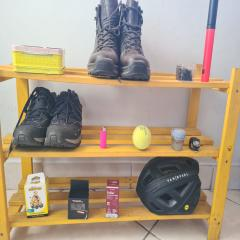bola: (132, 122, 152, 152)
bomba: (200, 0, 220, 82)
bota1: (87, 0, 152, 81)
bota2: (12, 85, 82, 149)
capacete: (135, 154, 202, 219)
cx-bike: (66, 176, 90, 222)
cx-ferro: (104, 178, 120, 220)
cx-magali: (12, 42, 68, 76)
cx-minions: (22, 172, 52, 220)
cx-xuxa: (175, 64, 195, 82)
isqueiro: (99, 125, 108, 149)
pote: (170, 126, 186, 153), (188, 136, 202, 154)
